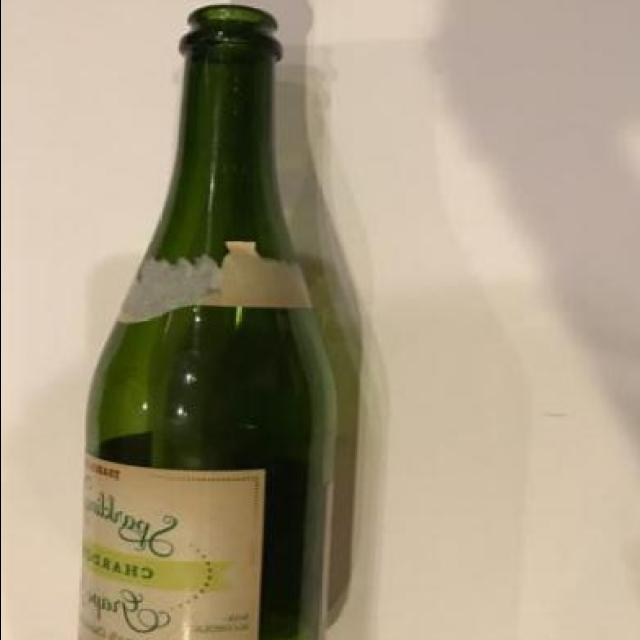kaca: (76, 5, 334, 640)
